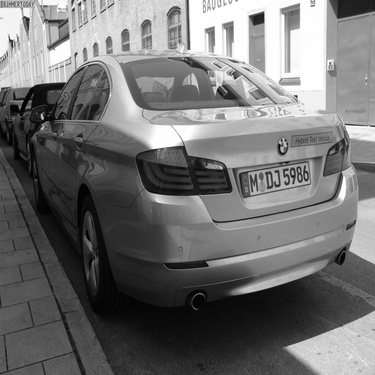car: (22, 46, 367, 327), (16, 76, 94, 178), (1, 84, 54, 149)
